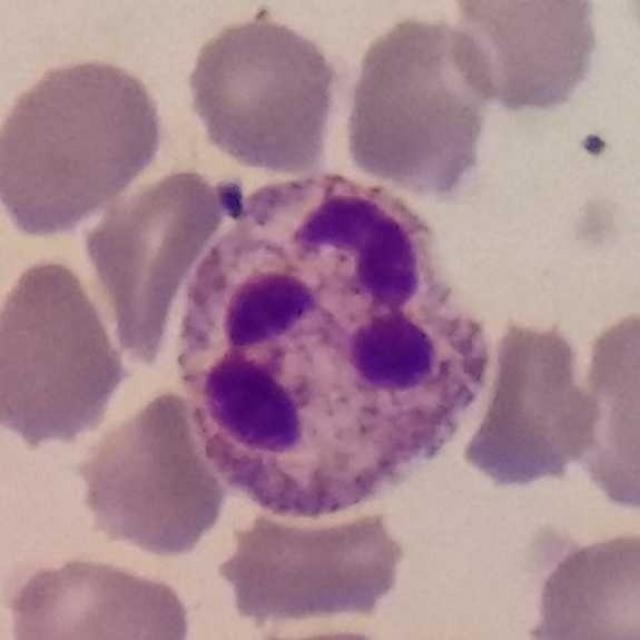Neutrophil: (157, 154, 507, 541)
Platelets: (576, 129, 614, 163)
RBC: (0, 50, 170, 240), (79, 163, 233, 366), (338, 9, 500, 201), (71, 384, 232, 562), (211, 490, 413, 631), (453, 312, 606, 498), (181, 9, 343, 177), (0, 250, 134, 448), (442, 0, 609, 117), (2, 551, 197, 640), (572, 303, 639, 516), (521, 524, 640, 640), (441, 1, 604, 41), (616, 0, 640, 70)
